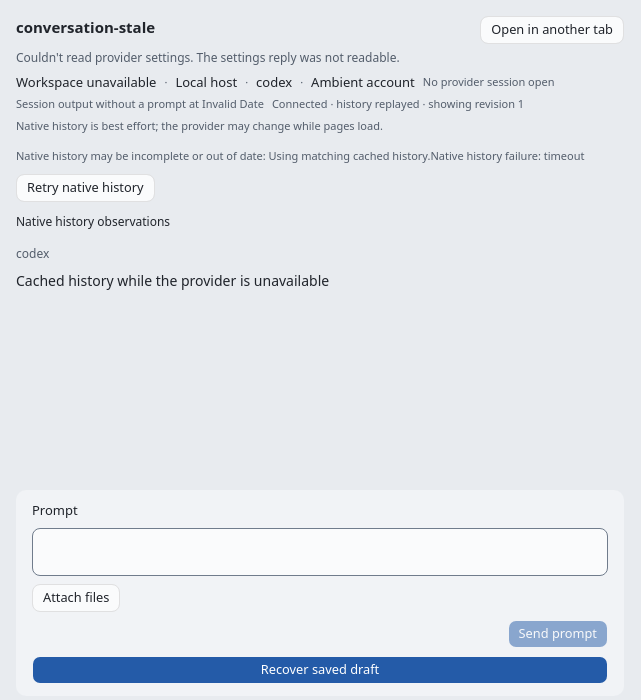
Scenario: announces matching stale native history and lets the person retry that exact page
The width and height of the screenshot is (641, 700).
Expected: the text "Cached history while the provider is unavailable" is shown, [16,271,329,290]
Expected: the text "Native history may be incomplete or out of date" is shown, [16,148,269,163]
Click the button "Retry native history" at (85, 188), box [16,174,154,202]
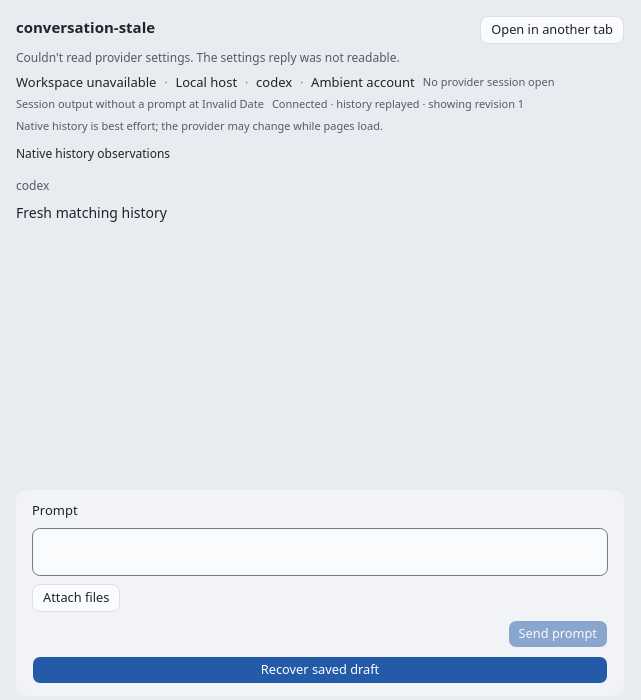
Expected: the text "Fresh matching history" is shown, [16,203,167,222]
